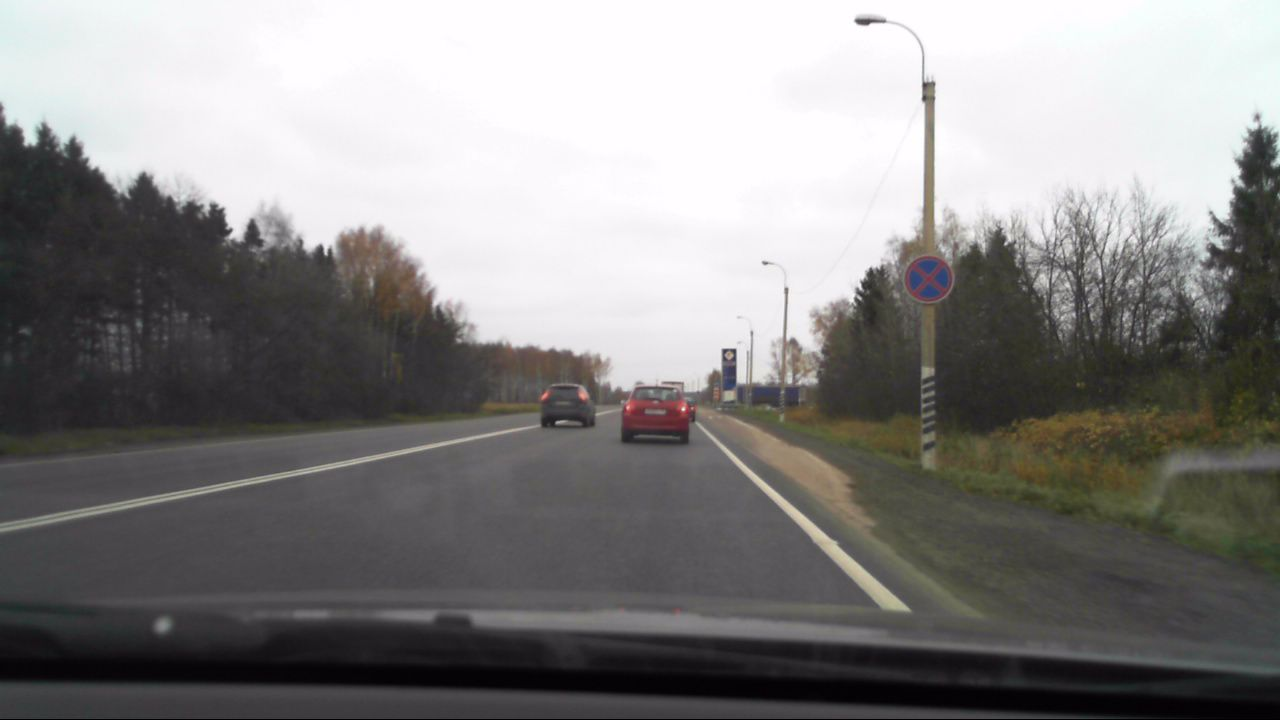No Parking: (902, 251, 954, 306)
